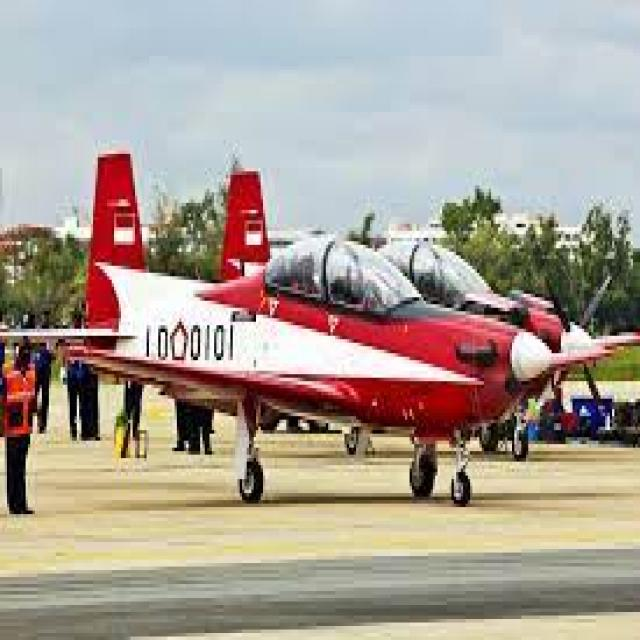KT-1: (23, 147, 614, 503)
